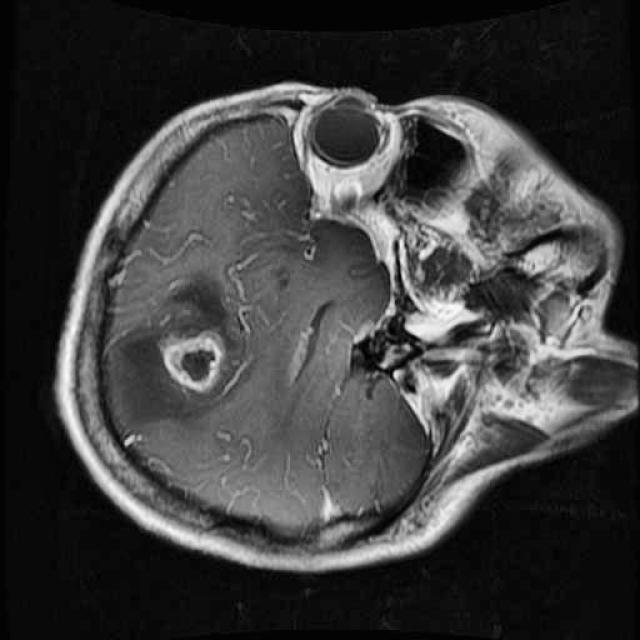Non-Tumor: (89, 248, 259, 451)
